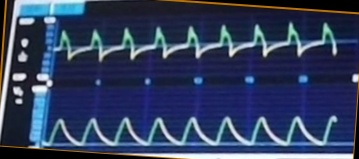Accumulation Flow: (59, 16, 340, 71)
Volume: (48, 97, 339, 149)
